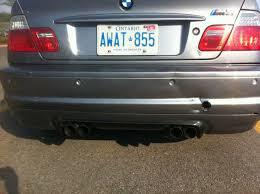rear-bumper-dent: (123, 76, 259, 133)
